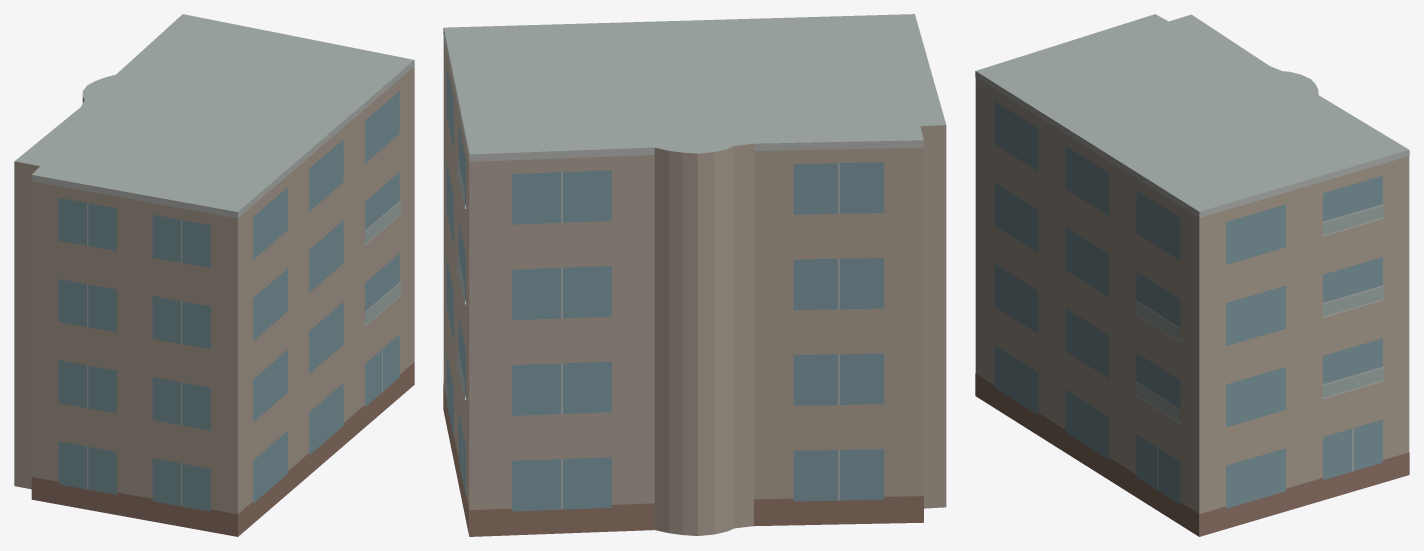
File: survey-upis-32801486.glb
3 renders of one model, left to right at view 1: azimuth 30°, elevation 25°; view 2: azimuth 150°, elevation 25°; view 3: azimuth 270°, elevation 25°, orthographic. The views are drawn at different scales.
Parts seen in each view (by area): view 1: survey-upis-32801486.tmp; view 2: survey-upis-32801486.tmp; view 3: survey-upis-32801486.tmp.
Boxes of the visible parts, x1,y1,x2,y2 form: survey-upis-32801486.tmp: (14,14,414,536); survey-upis-32801486.tmp: (443,14,946,536); survey-upis-32801486.tmp: (975,14,1409,536).
Size of the model in its own units: 16.45 by 12.6 by 15.25.
